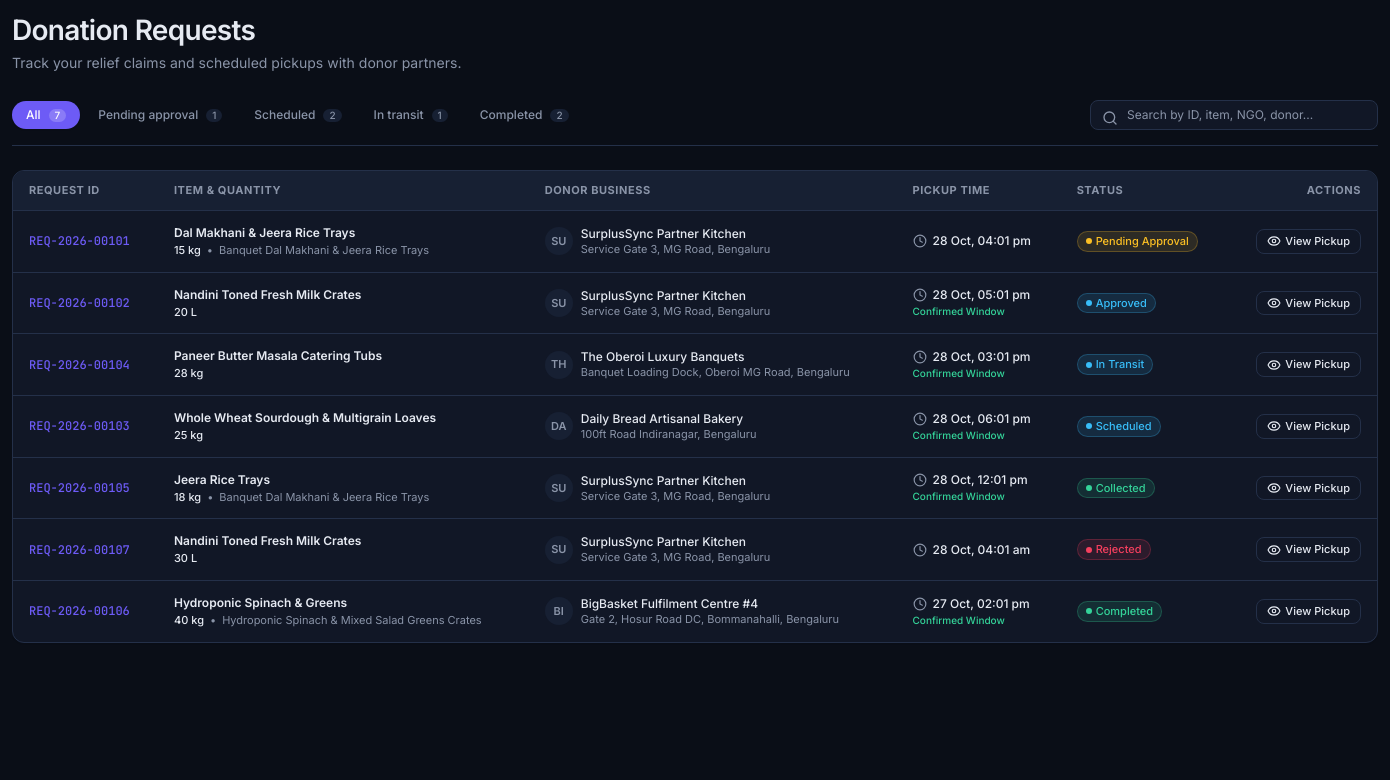
Test: Redistribution Frontend Pages Suite › DonationRequestsPage › filters requests by search input
Expected: the text "REQ-2026-00101" is shown, [13,210,158,272]
Type "NonexistentCode999" into the field with placeholder "Search by ID, item, NGO, donor...".
click(1234, 115); type("NonexistentCode999")  # box [1090,100,1378,130]
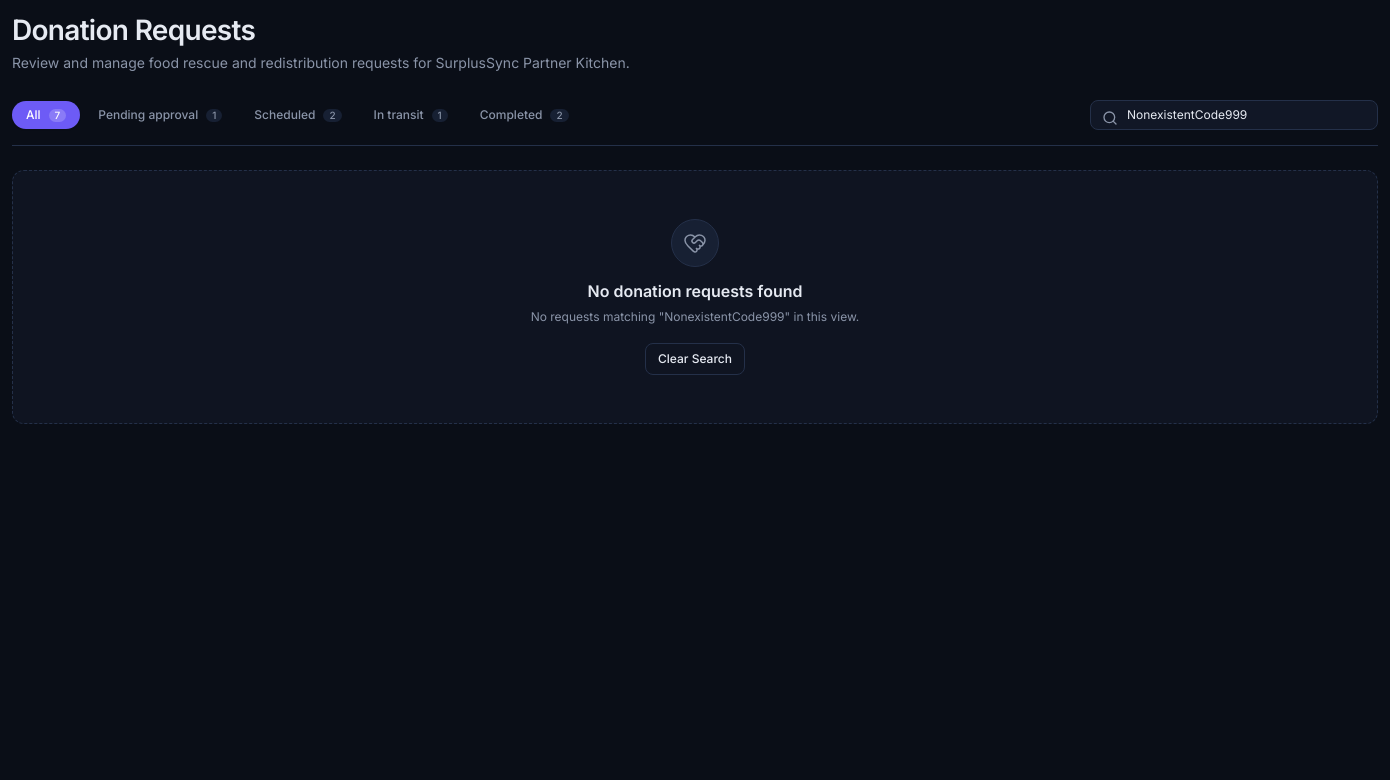
Expected: the heading "No donation requests found" is shown, [588,279,802,303]
